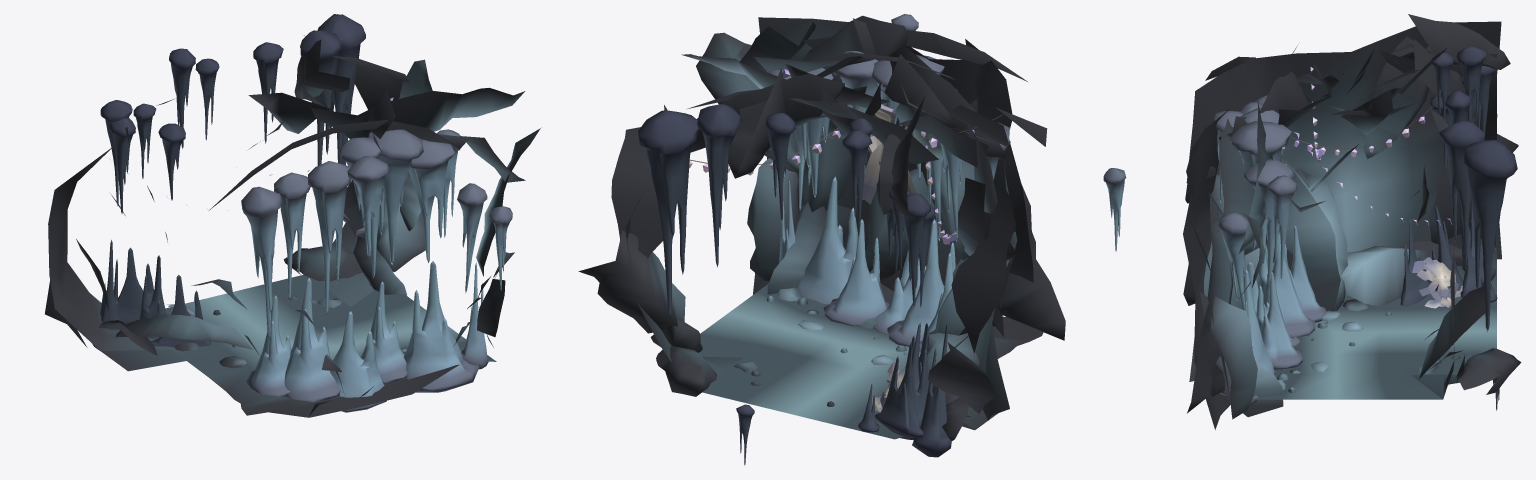
The model's file is Arctic_Tunnels_Turn_Left_A.glb.
The picture shows the model from 3 angles, left to right: view 1: azimuth 30°, elevation 25°; view 2: azimuth 150°, elevation 25°; view 3: azimuth 270°, elevation 25°; orthographic projection. The views are drawn at different scales.
Parts seen in each view (by area): view 1: Arctic_Tunnels_Turn_Left_A, Arctic_Tunnels_Icicle_Bright_A03 (9), Arctic_Tunnels_Icicle_Bright_A03 (10), Arctic_Tunnels_Icicle_Bright_A08 (1), Arctic_Tunnels_Icicle_Bright_A04, Arctic_Tunnels_Icicle_Bright_A07, Arctic_Tunnels_Icicle_Bright_A04 (3), Arctic_Tunnels_Icicle_Bright_A03, Arctic_Tunnels_Icicle_Shadow_A02, Arctic_Tunnels_Icicle_Bright_A05 (1), Arctic_Tunnels_Icicle_Bright_A03 (8), Arctic_Tunnels_Icicle_Bright_A08 (+18 smaller); view 2: Arctic_Tunnels_Turn_Left_A, Arctic_Tunnels_Icicle_Shadow_A02, Arctic_Tunnels_Icicle_Bright_A03 (9), Arctic_Tunnels_Icicle_Bright_A03 (7), Arctic_Tunnels_Icicle_Shadow_A07 (5), Arctic_Tunnels_Icicle_Bright_A03 (10), Arctic_Tunnels_Icicle_Shadow_A08 (1), Arctic_Tunnels_Icicle_Shadow_A08, Arctic_Tunnels_Icicle_Shadow_A07 (3), Arctic_Tunnels_Icicle_Shadow_A03, Arctic_Tunnels_Icicle_Bright_A04 (3), Arctic_Tunnels_Icicle_Shadow_A07 (7) (+13 smaller); view 3: Arctic_Tunnels_Turn_Left_A, Arctic_Tunnels_Icicle_Shadow_A02, Arctic_Tunnels_Icicle_Shadow_A07 (5), Arctic_Tunnels_Icicle_Bright_A03 (10), Arctic_Tunnels_Icicle_Bright_A03 (7), Arctic_Tunnels_Icicle_Bright_A03, Arctic_Tunnels_Icicle_Bright_A04, Arctic_Tunnels_Icicle_Bright_A02, Arctic_HollyBush_01_holiday, Arctic_Tunnels_Icicle_Bright_A03 (5), Arctic_Tunnels_Icicle_Bright_A03 (8), Arctic_Tunnels_Icicle_Shadow_A07 (7) (+10 smaller).
Part boxes in pixels (box(x1,y1,x2,y2)): Arctic_Tunnels_Turn_Left_A: box(45, 35, 540, 417); Arctic_Tunnels_Icicle_Bright_A03 (9): box(404, 261, 479, 392); Arctic_Tunnels_Icicle_Bright_A03 (10): box(284, 278, 340, 402); Arctic_Tunnels_Icicle_Bright_A08 (1): box(308, 161, 351, 314); Arctic_Tunnels_Icicle_Bright_A04: box(368, 129, 423, 264); Arctic_Tunnels_Icicle_Bright_A07: box(241, 186, 282, 339); Arctic_Tunnels_Icicle_Bright_A04 (3): box(330, 311, 386, 412); Arctic_Tunnels_Icicle_Bright_A03: box(409, 139, 454, 262); Arctic_Tunnels_Icicle_Shadow_A02: box(317, 14, 365, 164); Arctic_Tunnels_Icicle_Bright_A05 (1): box(347, 156, 390, 278); Arctic_Tunnels_Icicle_Bright_A03 (8): box(246, 295, 291, 397); Arctic_Tunnels_Icicle_Bright_A08: box(274, 172, 310, 299); Arctic_Tunnels_Turn_Left_A: box(578, 15, 1065, 441); Arctic_Tunnels_Icicle_Shadow_A02: box(638, 110, 699, 318); Arctic_Tunnels_Icicle_Bright_A03 (9): box(798, 176, 857, 304); Arctic_Tunnels_Icicle_Bright_A03 (7): box(823, 219, 889, 325); Arctic_Tunnels_Icicle_Shadow_A07 (5): box(697, 104, 740, 267); Arctic_Tunnels_Icicle_Bright_A03 (10): box(887, 219, 955, 346); Arctic_Tunnels_Icicle_Shadow_A08 (1): box(875, 343, 923, 438); Arctic_Tunnels_Icicle_Shadow_A08: box(912, 323, 951, 457); Arctic_Tunnels_Icicle_Shadow_A07 (3): box(765, 112, 795, 221); Arctic_Tunnels_Icicle_Shadow_A03: box(903, 193, 930, 306); Arctic_Tunnels_Icicle_Bright_A04 (3): box(873, 249, 920, 333); Arctic_Tunnels_Icicle_Shadow_A07 (7): box(842, 129, 872, 235); Arctic_Tunnels_Turn_Left_A: box(1183, 14, 1521, 429); Arctic_Tunnels_Icicle_Shadow_A02: box(1464, 140, 1517, 331); Arctic_Tunnels_Icicle_Shadow_A07 (5): box(1439, 120, 1484, 269); Arctic_Tunnels_Icicle_Bright_A03 (10): box(1258, 232, 1315, 337); Arctic_Tunnels_Icicle_Bright_A03 (7): box(1256, 272, 1302, 369); Arctic_Tunnels_Icicle_Bright_A03: box(1243, 159, 1294, 283); Arctic_Tunnels_Icicle_Bright_A04: box(1231, 121, 1291, 170); Arctic_Tunnels_Icicle_Bright_A02: box(1219, 212, 1248, 310); Arctic_HollyBush_01_holiday: box(1412, 257, 1462, 308); Arctic_Tunnels_Icicle_Bright_A03 (5): box(1267, 175, 1296, 279); Arctic_Tunnels_Icicle_Bright_A03 (8): box(1284, 225, 1326, 322); Arctic_Tunnels_Icicle_Shadow_A07 (7): box(1456, 46, 1486, 123).
Size of what is drawn, in the model's own units: 11.82 by 9.68 by 10.85.
